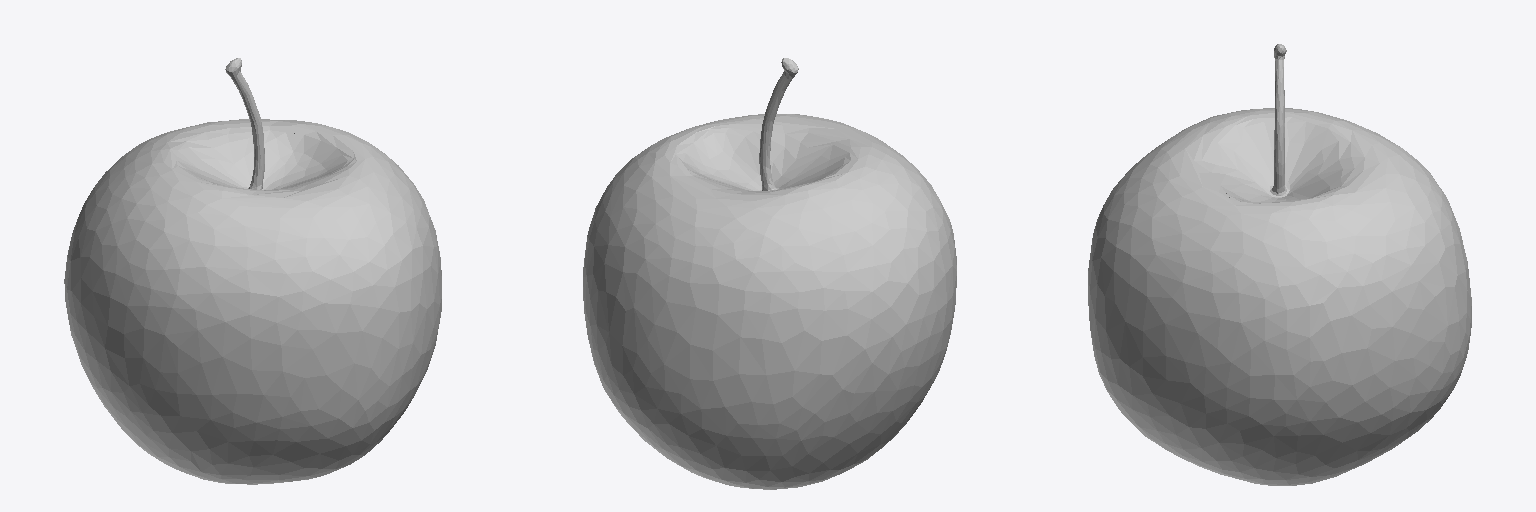
The model's file is apple_red.obj.
3 renders of one model, left to right at view 1: azimuth 30°, elevation 25°; view 2: azimuth 150°, elevation 25°; view 3: azimuth 270°, elevation 25°, orthographic.
Size of the model in its own units: 3.26 by 3.79 by 3.26.